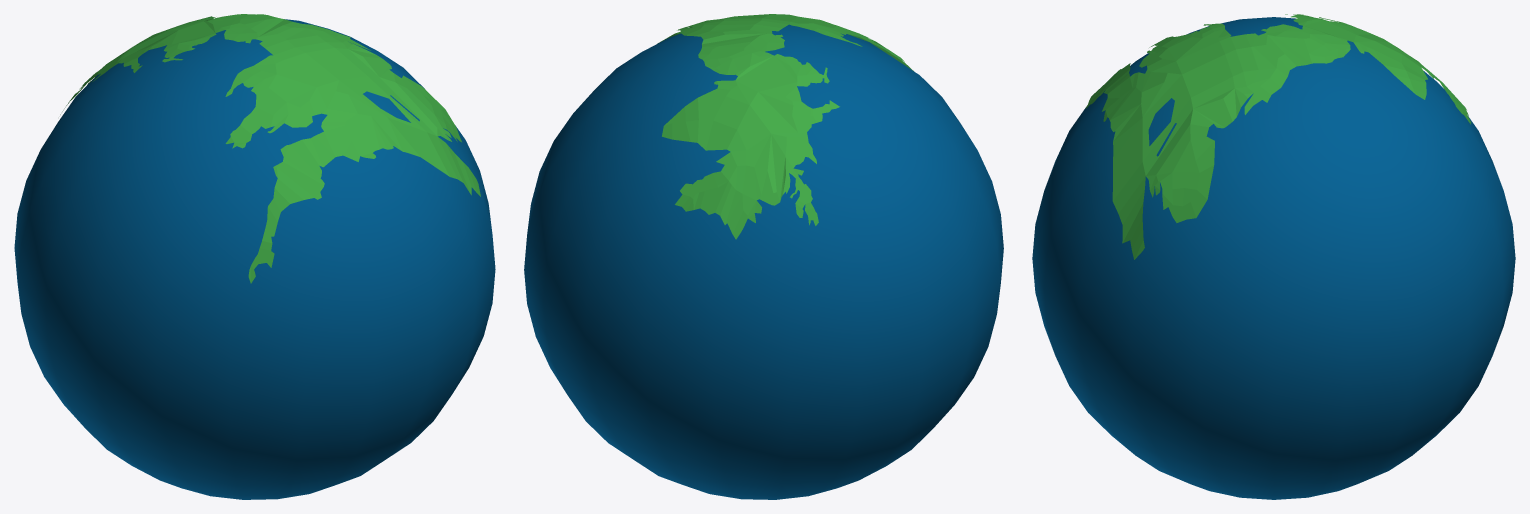
The model's file is Earth 5-20.fbx.
3 views of the same model, side by side, from view 1: azimuth 30°, elevation 25°; view 2: azimuth 150°, elevation 25°; view 3: azimuth 270°, elevation 25° (orthographic).
Visible parts, largest first — view 1: Ocean, World; view 2: Ocean, World; view 3: Ocean, World.
Boxes of the visible parts, x1,y1,x2,y2 form: Ocean: [14, 19, 495, 499]; World: [60, 14, 480, 283]; Ocean: [524, 24, 1003, 499]; World: [657, 14, 913, 239]; Ocean: [1032, 17, 1515, 499]; World: [1085, 14, 1471, 259].
Bounding box in the file's own units: 18.62 × 18.82 × 18.62.
